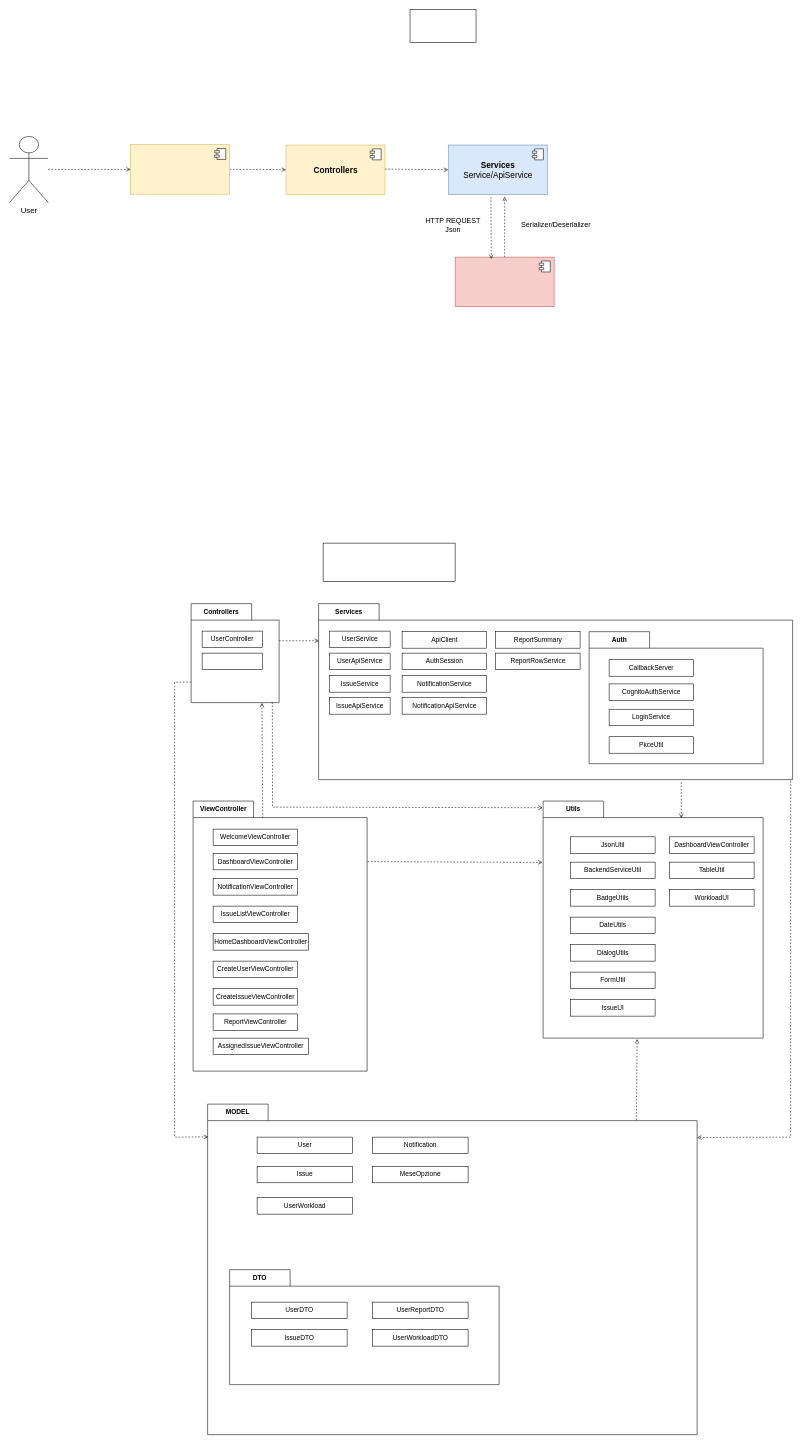
Image size: 805x1444. Some labels were removed from this diagram. Each missing label, with the centre of its shape:
Component Diagram: the point at 442,26
IssueController: the point at 232,661
Package Diagram: the point at 389,562
Server: the point at 504,282
Views FXML/ViewControllers: the point at 180,169
